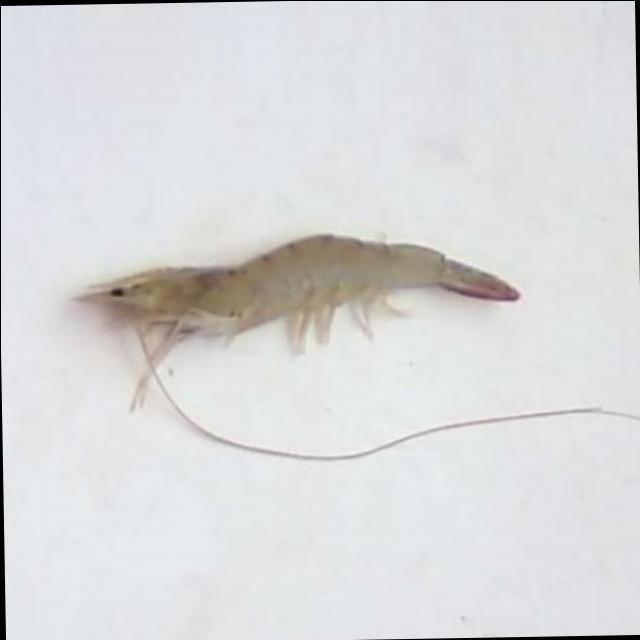shrimp: (77, 235, 519, 409)
